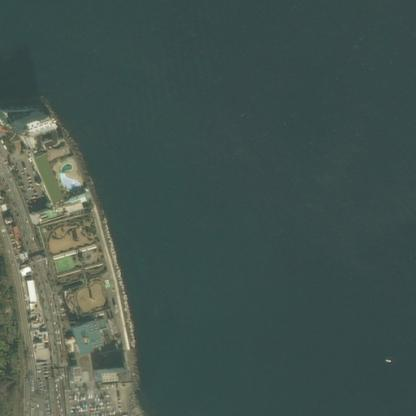ship: (379, 351, 398, 370)
